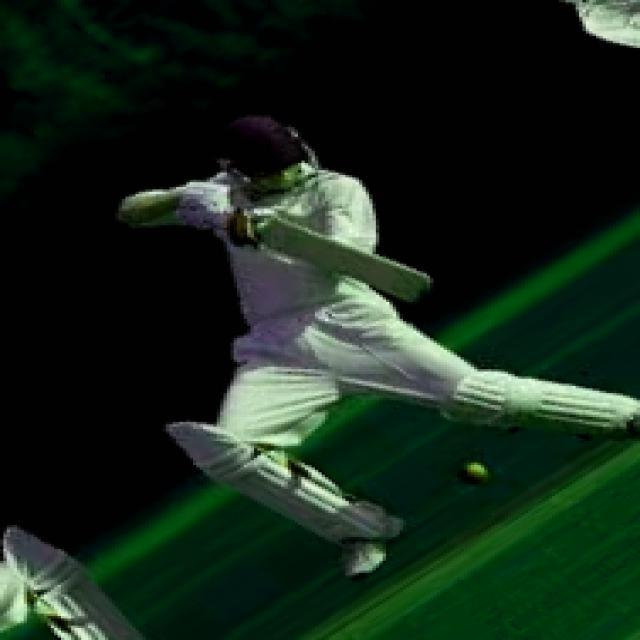bat: (251, 215, 436, 307)
toe: (411, 270, 431, 304)
